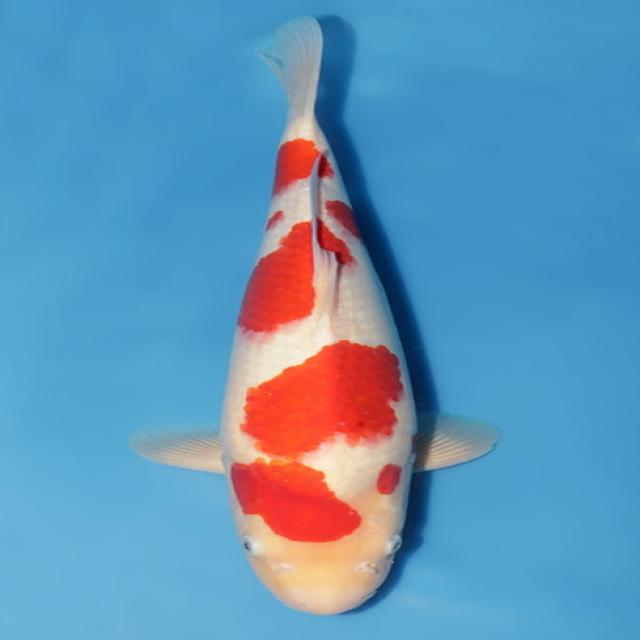Kohaku: (130, 14, 498, 616)
